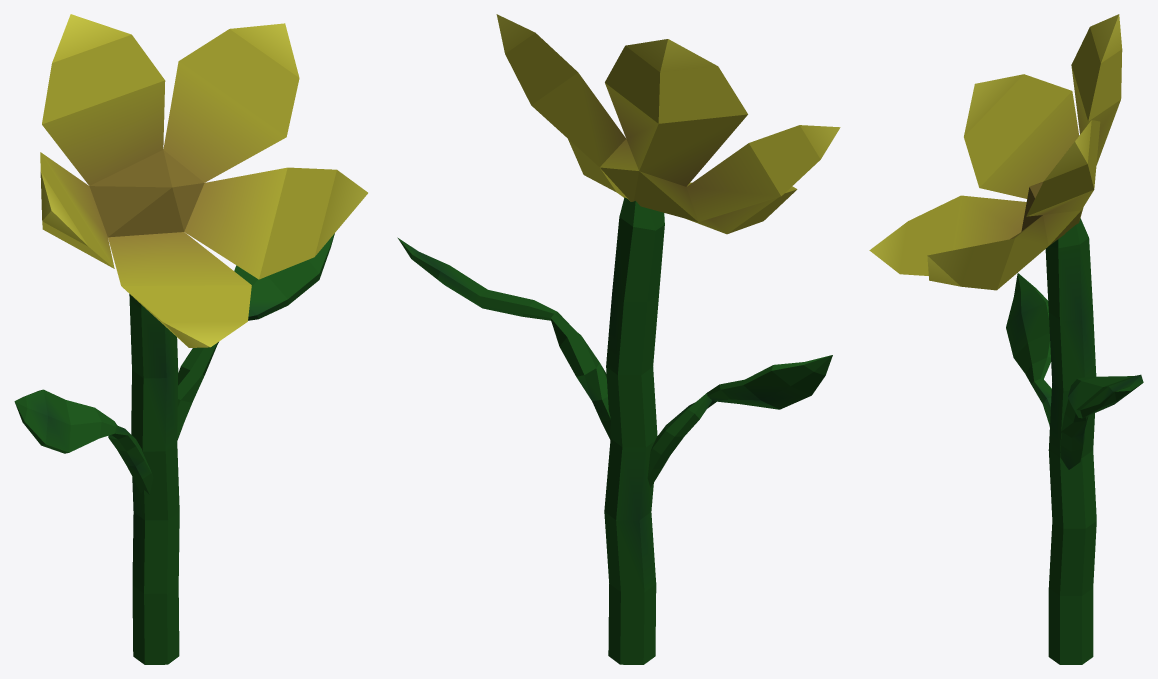
File: Flor.fbx
3 renders of one model, left to right at view 1: azimuth 30°, elevation 25°; view 2: azimuth 150°, elevation 25°; view 3: azimuth 270°, elevation 25°, orthographic. The views are drawn at different scales.
Parts seen in each view (by area): view 1: Flor.006, Flor.001, Flor.002; view 2: Flor.006, Flor.001, Flor.002; view 3: Flor.006, Flor.001, Flor.002.
Boxes of the visible parts, bbox=[...] form: Flor.006: bbox=[40, 14, 367, 664]; Flor.001: bbox=[14, 389, 153, 494]; Flor.002: bbox=[177, 233, 334, 440]; Flor.006: bbox=[496, 14, 840, 664]; Flor.001: bbox=[647, 355, 832, 487]; Flor.002: bbox=[397, 237, 610, 439]; Flor.006: bbox=[869, 14, 1122, 664]; Flor.001: bbox=[1006, 273, 1051, 426]; Flor.002: bbox=[1060, 374, 1143, 469].
Bounding box in the file's own units: 26.58 × 43.03 × 17.4.
